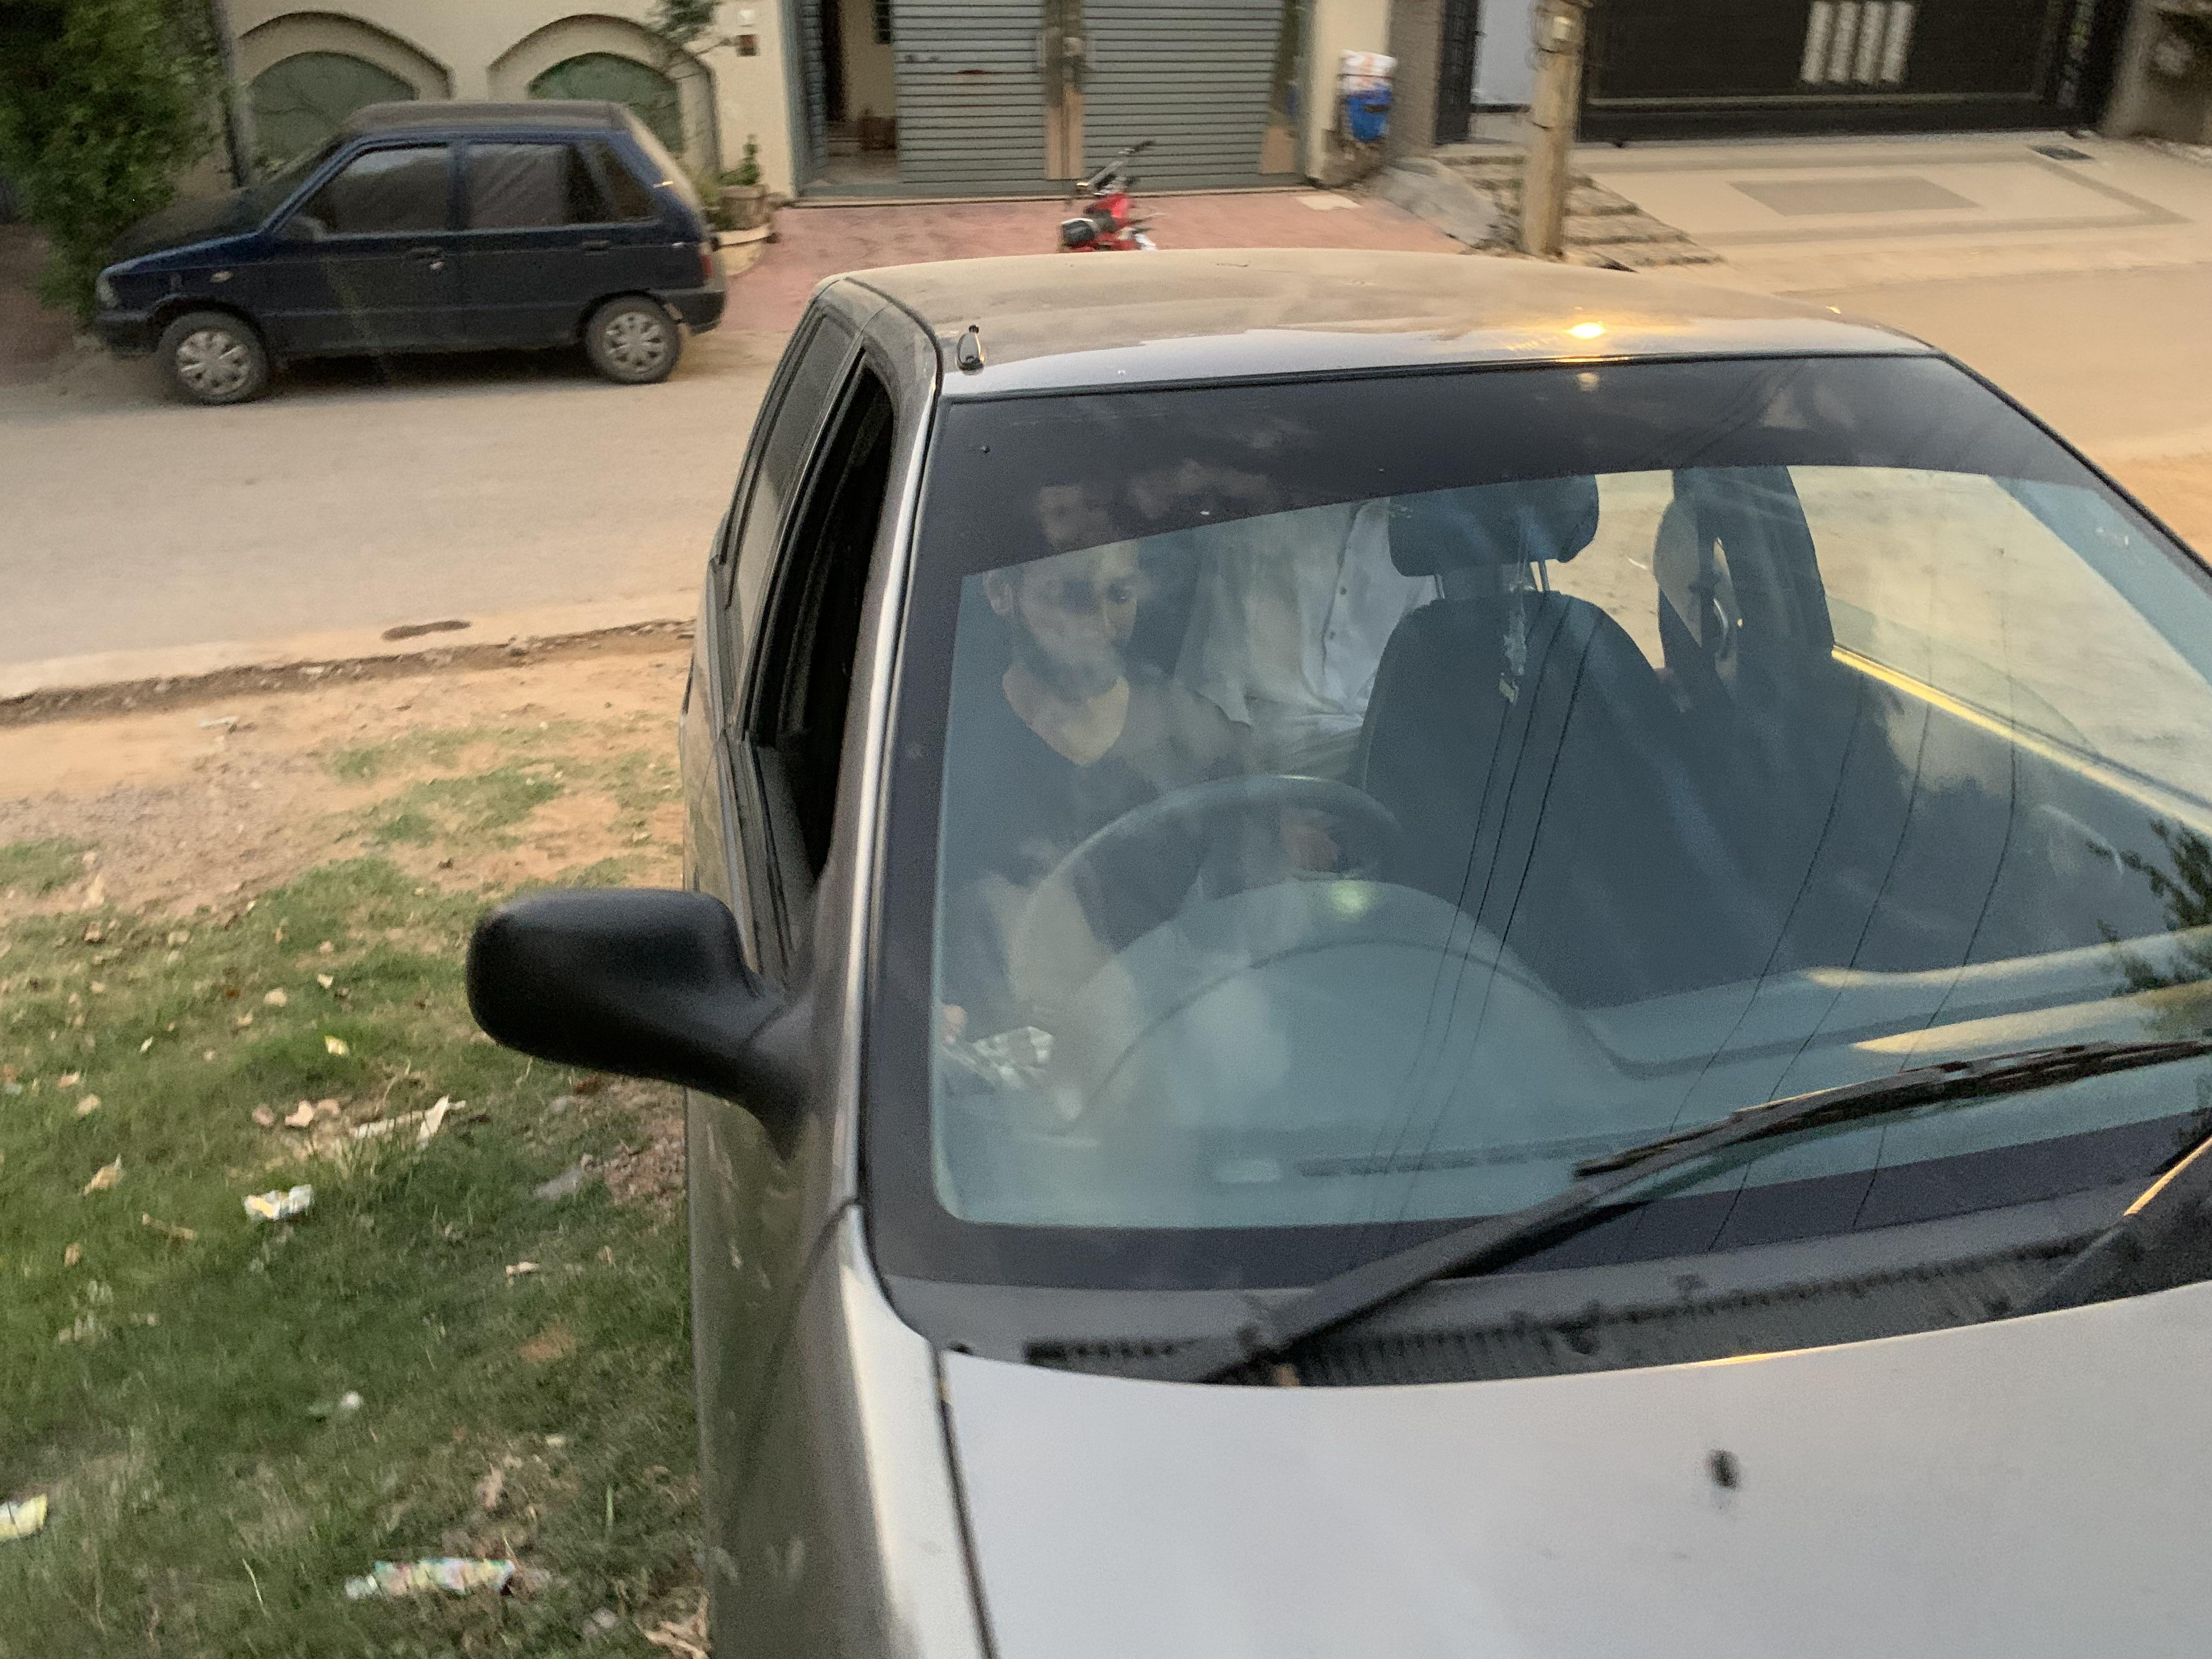windshield: (918, 329, 2200, 1371)
